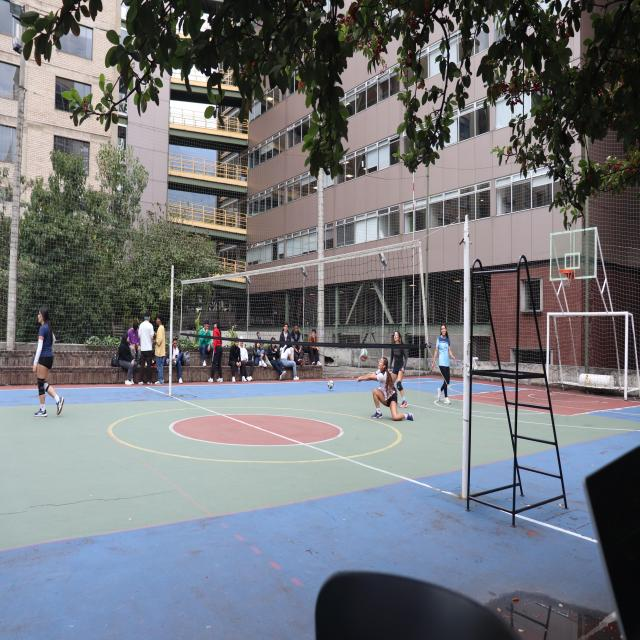volleyball: (359, 348, 368, 362), (328, 379, 333, 389)
